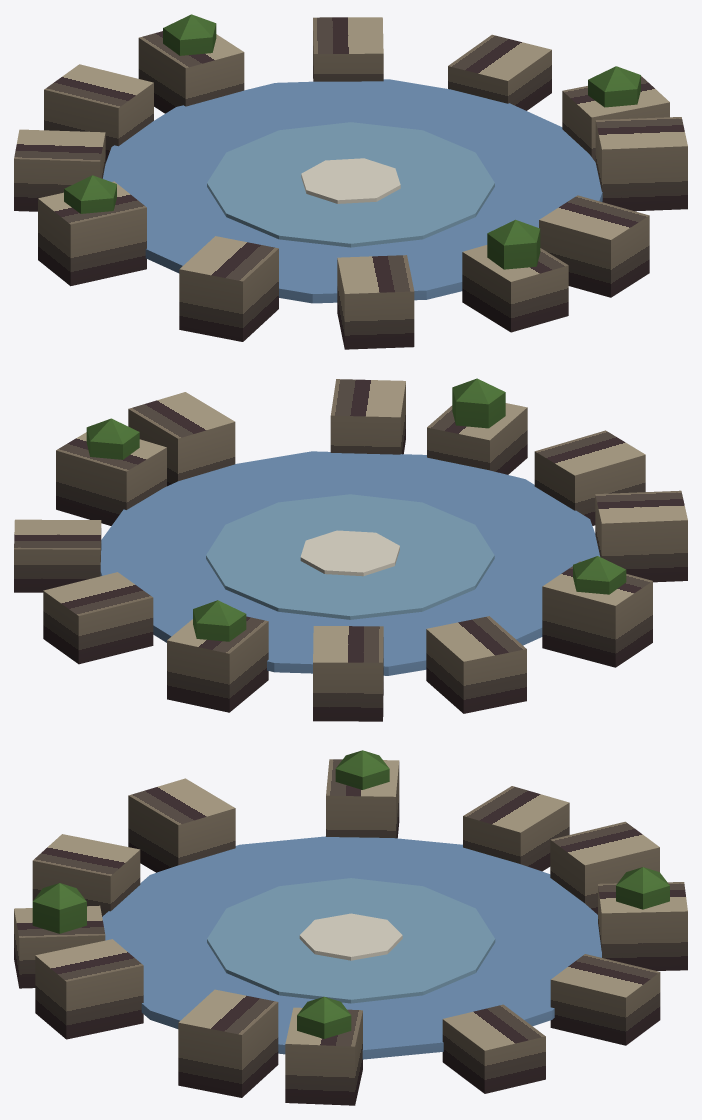
The model's file is spring_basin.glb.
The picture shows the model from 3 angles, top to bottom: view 1: azimuth 30°, elevation 25°; view 2: azimuth 150°, elevation 25°; view 3: azimuth 270°, elevation 25°; orthographic projection.
Visible parts, largest first — view 1: spring_basin; view 2: spring_basin; view 3: spring_basin.
Part boxes in pixels (x1,y1,x2,y2): spring_basin: [14, 14, 687, 349]; spring_basin: [14, 378, 687, 721]; spring_basin: [14, 750, 687, 1105].
Bounding box in the file's own units: 3.27 × 0.48 × 3.27.
3 materials, 1 textured.
